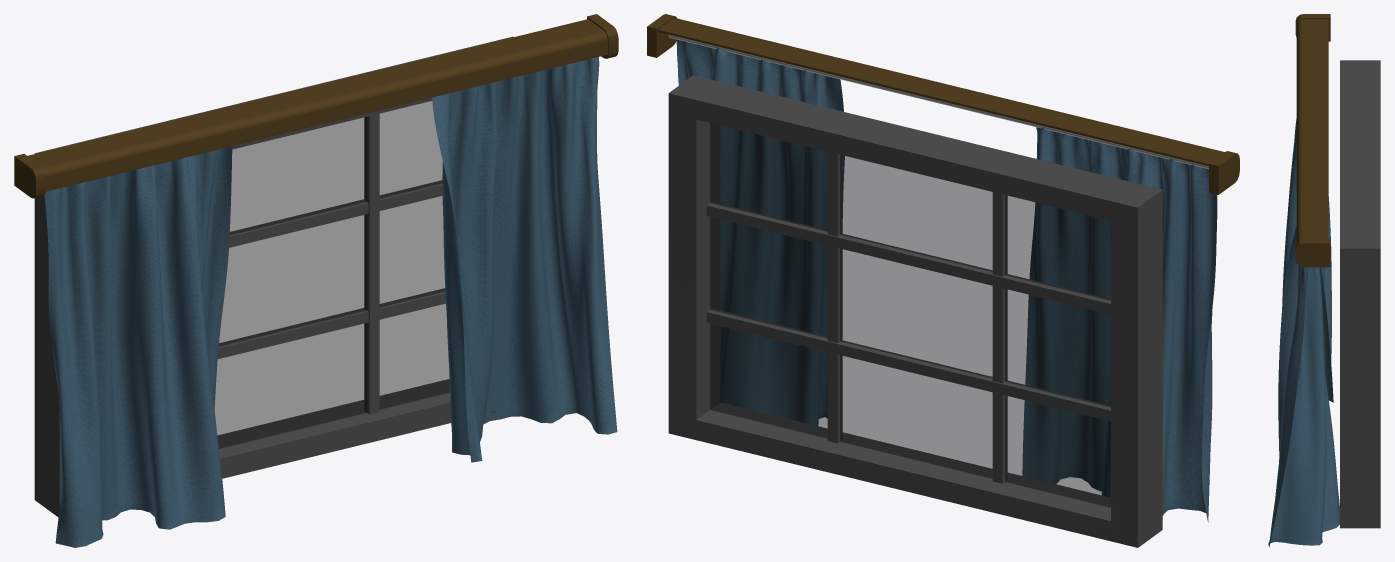
File: window-curtain.glb
The picture shows the model from 3 angles, left to right: view 1: azimuth 30°, elevation 25°; view 2: azimuth 150°, elevation 25°; view 3: azimuth 270°, elevation 25°; orthographic projection. The views are drawn at different scales.
Parts seen in each view (by area): view 1: polySurface559, polySurface558, pCube40, pCube41, pCube38, pCube39, polySurface561; view 2: pCube40, pCube38, polySurface559, polySurface558, pCube39, pCube41, polySurface560, polySurface561, polySurface562; view 3: pCube38, polySurface558, pCube41, polySurface559, polySurface562, polySurface561.
Part boxes in pixels (left/top/right/bottom): polySurface559: left=44, top=146, right=232, bottom=547; polySurface558: left=432, top=57, right=617, bottom=462; pCube40: left=215, top=101, right=449, bottom=448; pCube41: left=28, top=19, right=607, bottom=191; pCube38: left=34, top=36, right=513, bottom=517; pCube39: left=217, top=113, right=445, bottom=414; polySurface561: left=14, top=154, right=45, bottom=198; pCube40: left=710, top=123, right=1110, bottom=507; pCube38: left=668, top=75, right=1162, bottom=547; polySurface559: left=1022, top=126, right=1217, bottom=522; polySurface558: left=676, top=39, right=844, bottom=425; pCube39: left=706, top=152, right=1110, bottom=483; pCube41: left=658, top=18, right=1224, bottom=166; polySurface560: left=668, top=34, right=1208, bottom=169; polySurface561: left=1209, top=151, right=1239, bottom=194; polySurface562: left=647, top=14, right=677, bottom=57; pCube38: left=1340, top=60, right=1380, bottom=528; polySurface558: left=1268, top=225, right=1339, bottom=547; pCube41: left=1296, top=19, right=1328, bottom=242; polySurface559: left=1282, top=118, right=1333, bottom=402; polySurface562: left=1295, top=239, right=1330, bottom=267; polySurface561: left=1295, top=14, right=1330, bottom=41.
Size of the model in its own units: 0.0834 by 0.0534 by 0.0172.
5 materials, 1 textured.
